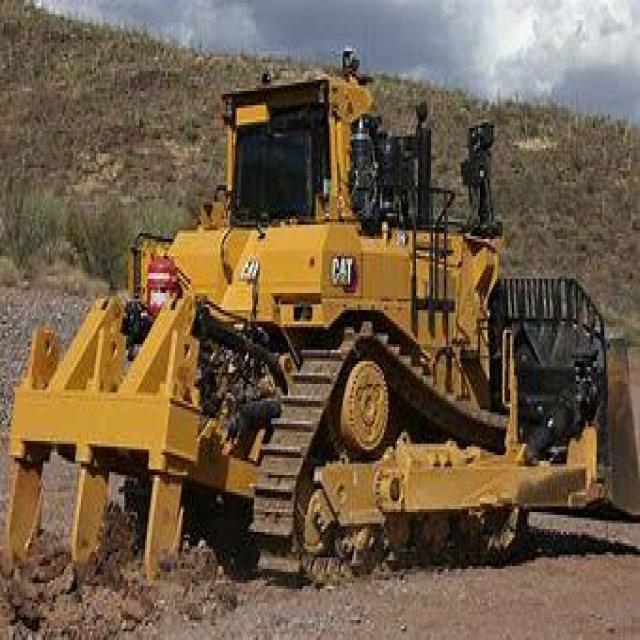Bulldozer: (8, 48, 638, 586)
